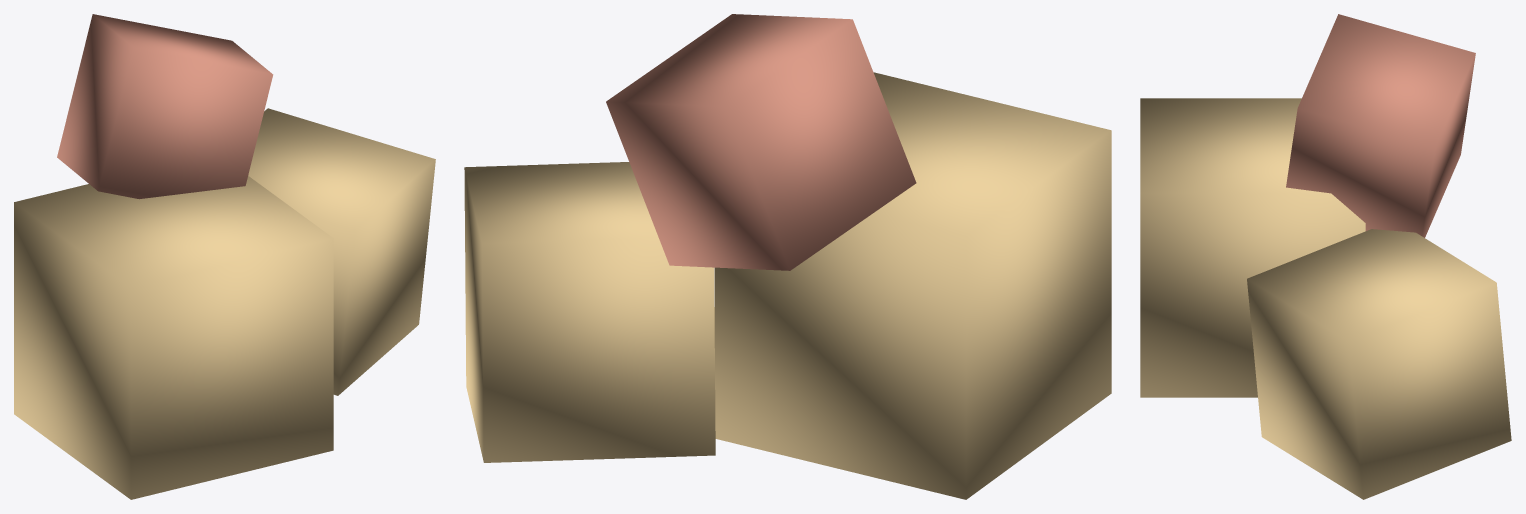
File: temple_ruin_blocks.glb
3 views of the same model, side by side, from view 1: azimuth 30°, elevation 25°; view 2: azimuth 150°, elevation 25°; view 3: azimuth 270°, elevation 25° (orthographic). The views are drawn at different scales.
Visible parts, largest first — view 1: block1, block3, block2; view 2: block1, block2, block3; view 3: block2, block1, block3.
Boxes of the visible parts, x1,y1,x2,y2 form: block1: (14,176,333,499); block3: (57,14,273,199); block2: (248,108,435,395); block1: (714,72,1111,499); block2: (464,162,715,462); block3: (606,14,916,270); block2: (1247,229,1511,499); block1: (1140,98,1365,397); block3: (1286,14,1475,237).
Bounding box in the file's own units: 0.5094 × 0.4232 × 0.4118.
